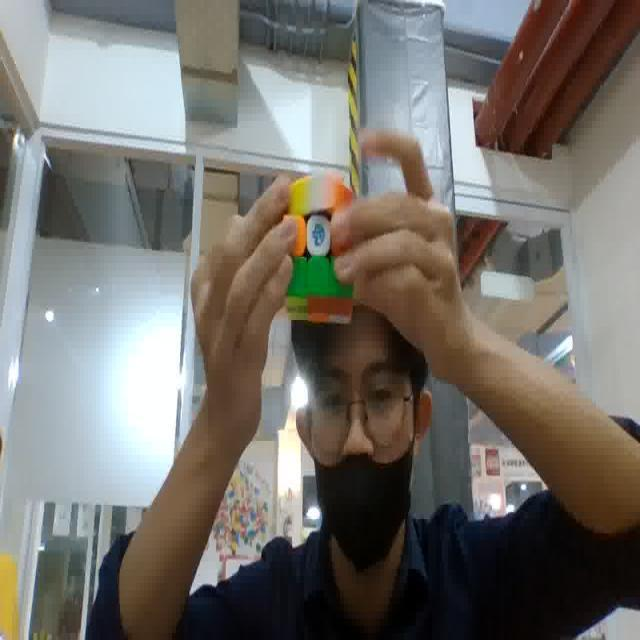Rub: (276, 178, 368, 325)
